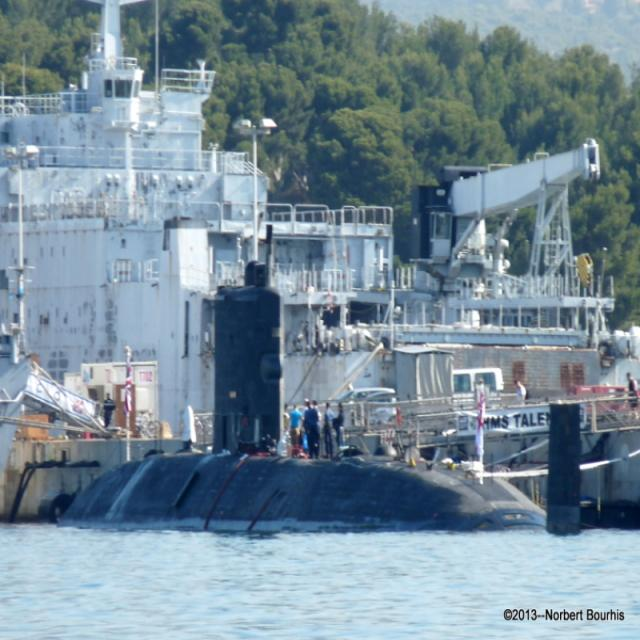submarine: (64, 280, 563, 534)
